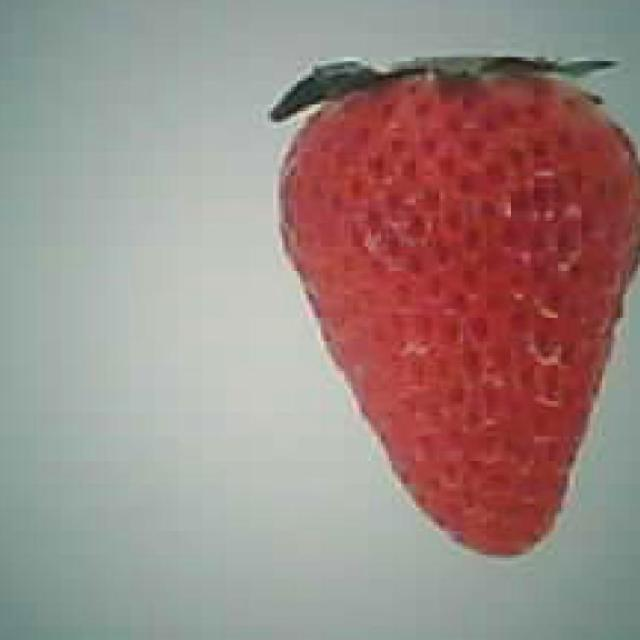Healthy Fruit: (270, 55, 638, 558)
